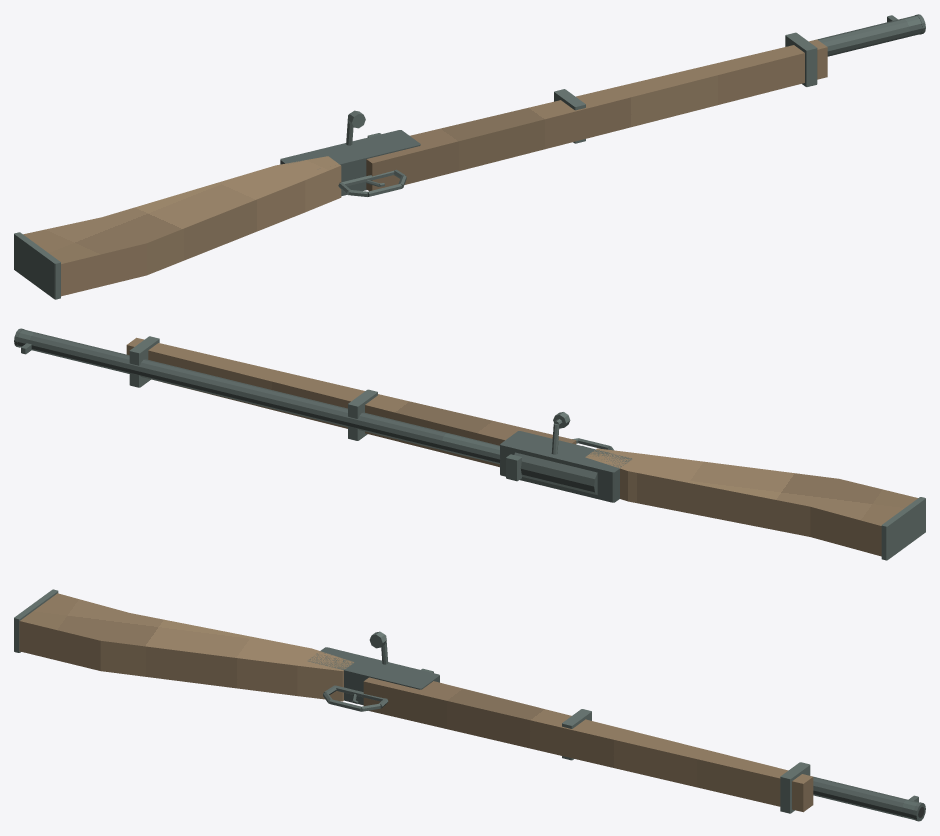
Rendered from weapon-mosin.glb.
3 views of the same model, one above another, from view 1: azimuth 30°, elevation 25°; view 2: azimuth 150°, elevation 25°; view 3: azimuth 330°, elevation 25° (orthographic). The views are drawn at different scales.
Visible parts, largest first — view 1: weapon-mosin/tapered-full-depth-forend, weapon-mosin/shaped-solid-butt, weapon-mosin/central-receiver, weapon-mosin/long-barrel, weapon-mosin/butt-end-plate, weapon-mosin/stock-band-1; view 2: weapon-mosin/shaped-solid-butt, weapon-mosin/long-barrel, weapon-mosin/tapered-full-depth-forend, weapon-mosin/central-receiver, weapon-mosin/receiver-top-cylinder, weapon-mosin/butt-end-plate, weapon-mosin/stock-band-1, weapon-mosin/stock-band-0; view 3: weapon-mosin/shaped-solid-butt, weapon-mosin/tapered-full-depth-forend, weapon-mosin/central-receiver, weapon-mosin/long-barrel, weapon-mosin/stock-band-1, weapon-mosin/butt-end-plate.
Boxes of the visible parts, bbox=[...] form: weapon-mosin/tapered-full-depth-forend: bbox=[366, 39, 827, 191]; weapon-mosin/shaped-solid-butt: bbox=[23, 156, 341, 296]; weapon-mosin/central-receiver: bbox=[280, 130, 420, 196]; weapon-mosin/long-barrel: bbox=[817, 15, 922, 56]; weapon-mosin/butt-end-plate: bbox=[14, 232, 60, 299]; weapon-mosin/stock-band-1: bbox=[785, 32, 817, 86]; weapon-mosin/shaped-solid-butt: bbox=[585, 448, 917, 556]; weapon-mosin/long-barrel: bbox=[17, 329, 500, 464]; weapon-mosin/tapered-full-depth-forend: bbox=[126, 337, 576, 467]; weapon-mosin/central-receiver: bbox=[500, 431, 631, 502]; weapon-mosin/receiver-top-cylinder: bbox=[514, 452, 597, 495]; weapon-mosin/butt-end-plate: bbox=[881, 497, 925, 560]; weapon-mosin/stock-band-1: bbox=[129, 336, 159, 387]; weapon-mosin/stock-band-0: bbox=[348, 389, 377, 440]; weapon-mosin/shaped-solid-butt: bbox=[19, 593, 353, 701]; weapon-mosin/tapered-full-depth-forend: bbox=[363, 677, 813, 812]; weapon-mosin/central-receiver: bbox=[308, 647, 439, 705]; weapon-mosin/long-barrel: bbox=[813, 776, 918, 819]; weapon-mosin/stock-band-1: bbox=[780, 762, 810, 813]; weapon-mosin/butt-end-plate: bbox=[14, 589, 58, 652].
Bounding box in the file's own units: 1.31 × 0.1 × 0.1515.
3 materials, 3 textured.
